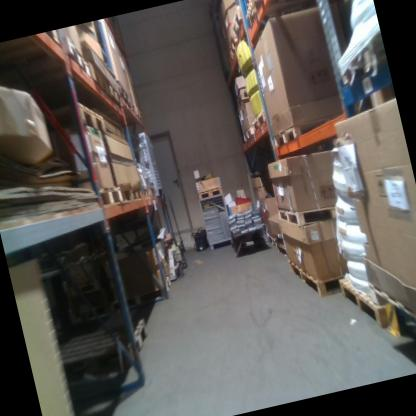pallet: (55, 315, 154, 377), (336, 267, 395, 341), (371, 271, 416, 367), (276, 188, 356, 235), (288, 247, 357, 301), (49, 96, 105, 142), (272, 116, 345, 149), (58, 24, 94, 85), (242, 0, 296, 22), (227, 1, 250, 47), (88, 54, 111, 97), (98, 184, 125, 213), (249, 107, 271, 136), (223, 34, 241, 65), (108, 79, 123, 111), (115, 80, 131, 109), (197, 185, 224, 201), (119, 186, 136, 208), (240, 125, 257, 145), (236, 88, 252, 107), (131, 186, 145, 205), (131, 100, 141, 117)
pallet_truck: (153, 189, 187, 278), (167, 189, 193, 259)
stillage: (197, 190, 238, 255)
